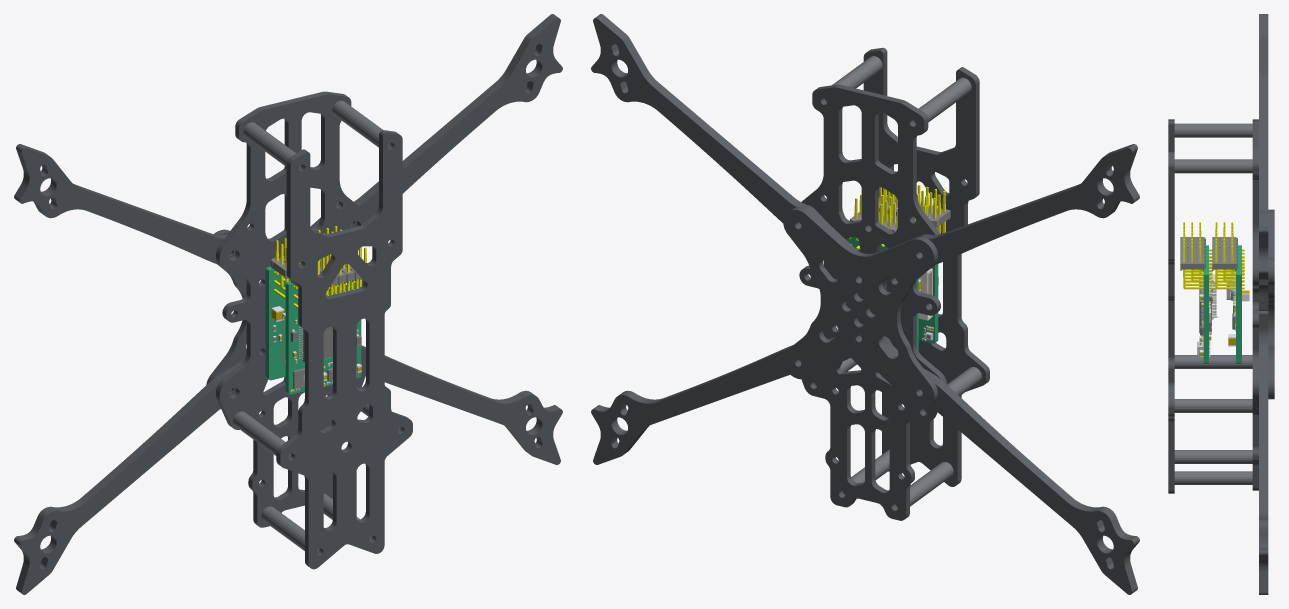
Rendered from FC-V4-HD-Cargo-provisional.glb.
3 views of the same model, side by side, from view 1: azimuth 30°, elevation 25°; view 2: azimuth 150°, elevation 25°; view 3: azimuth 270°, elevation 25° (orthographic). The views are drawn at different scales.
Parts seen in each view (by area): view 1: Frame/Top, Frame/Bottom, Frame/Arm-1--1, Frame/Arm--1-1, Frame/Arm-1-1, Frame/Arm--1--1, V4/UpperLogic/FC-V4-UpperLogic-native.obj, V4/LowerPower/FC-V4-LowerPower-native.obj, Frame/Cross, Frame/Standoff-1, Frame/Standoff-4, Frame/Standoff-2 (+1 smaller); view 2: Frame/Bottom, Frame/Cross, Frame/Top, Frame/Arm-1--1, Frame/Arm--1-1, Frame/Arm-1-1, Frame/Arm--1--1, Frame/Standoff-2, Frame/Standoff-6, V4/UpperLogic/FC-V4-UpperLogic-native.obj_177, Frame/Standoff-1; view 3: Frame/Arm--1--1, Frame/Top, Frame/Bottom, Frame/Arm-1-1, Frame/Cross, Frame/Standoff-2, Frame/Standoff-1, Frame/Standoff-6, Frame/Standoff-5, Frame/Standoff-3, Frame/Standoff-4, V4/LowerPower/FC-V4-LowerPower-native.obj_39 (+7 smaller).
Boxes of the visible parts, x1,y1,x2,y2 form: Frame/Top: (276, 130, 412, 569); Frame/Bottom: (216, 91, 369, 527); Frame/Arm-1--1: (14, 349, 261, 594); Frame/Arm--1-1: (350, 14, 562, 228); Frame/Arm-1-1: (14, 144, 279, 265); Frame/Arm--1--1: (361, 345, 562, 464); V4/UpperLogic/FC-V4-UpperLogic-native.obj: (285, 279, 361, 394); V4/LowerPower/FC-V4-LowerPower-native.obj: (265, 266, 288, 380); Frame/Cross: (206, 202, 338, 384); Frame/Standoff-1: (332, 100, 390, 147); Frame/Standoff-4: (233, 411, 290, 456); Frame/Standoff-2: (243, 122, 301, 167); Frame/Bottom: (799, 84, 947, 520); Frame/Cross: (783, 207, 937, 408); Frame/Top: (863, 47, 989, 486); Frame/Arm-1--1: (862, 308, 1139, 594); Frame/Arm--1-1: (591, 14, 862, 303); Frame/Arm-1-1: (862, 144, 1139, 309); Frame/Arm--1--1: (591, 303, 862, 464); Frame/Standoff-2: (913, 77, 971, 123); Frame/Standoff-6: (895, 462, 953, 507); V4/UpperLogic/FC-V4-UpperLogic-native.obj_177: (879, 185, 945, 233); Frame/Standoff-1: (824, 56, 882, 101); Frame/Arm--1--1: (1259, 311, 1268, 594); Frame/Top: (1168, 119, 1174, 493); Frame/Bottom: (1252, 119, 1258, 490); Frame/Arm-1-1: (1259, 14, 1268, 227); Frame/Cross: (1268, 209, 1274, 399); Frame/Standoff-2: (1174, 123, 1252, 137); Frame/Standoff-1: (1174, 159, 1252, 173); Frame/Standoff-6: (1174, 450, 1252, 463); Frame/Standoff-5: (1174, 471, 1252, 484); Frame/Standoff-3: (1174, 399, 1252, 412); Frame/Standoff-4: (1174, 355, 1252, 368); V4/LowerPower/FC-V4-LowerPower-native.obj_39: (1215, 222, 1244, 289).
Bounding box in the file's own units: 165 × 129 × 34.
